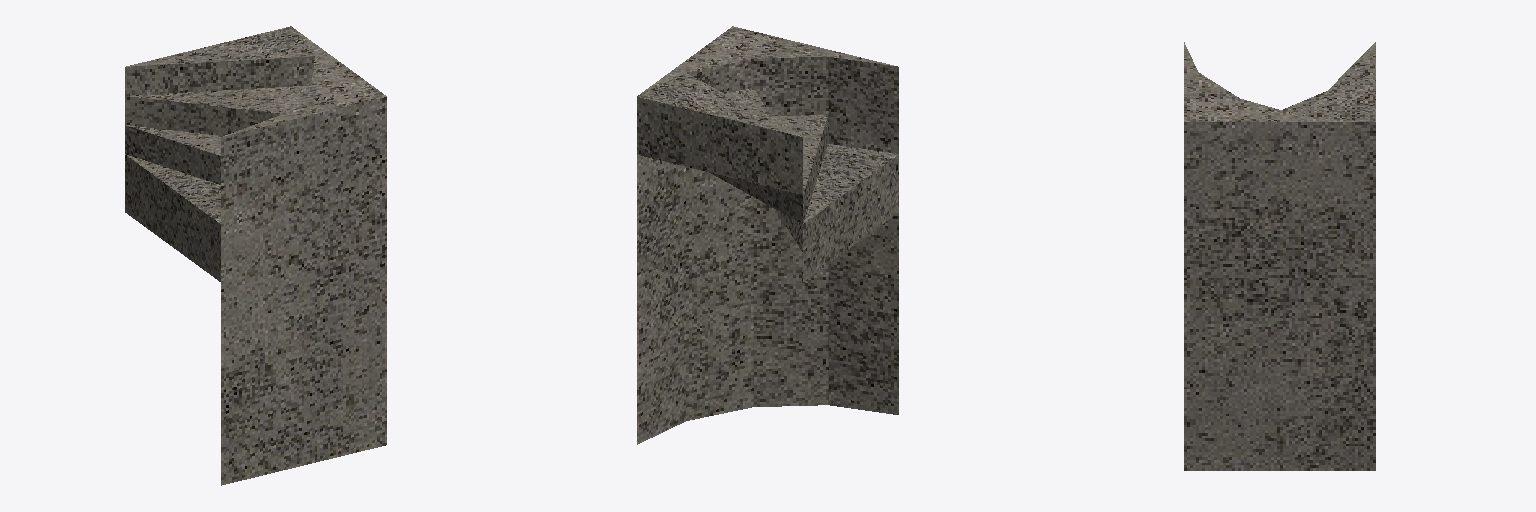
3 renders of one model, left to right at view 1: azimuth 30°, elevation 25°; view 2: azimuth 150°, elevation 25°; view 3: azimuth 270°, elevation 25°, orthographic.
Size of the model in its own units: 1 by 2 by 1.
1 materials, 1 textured.